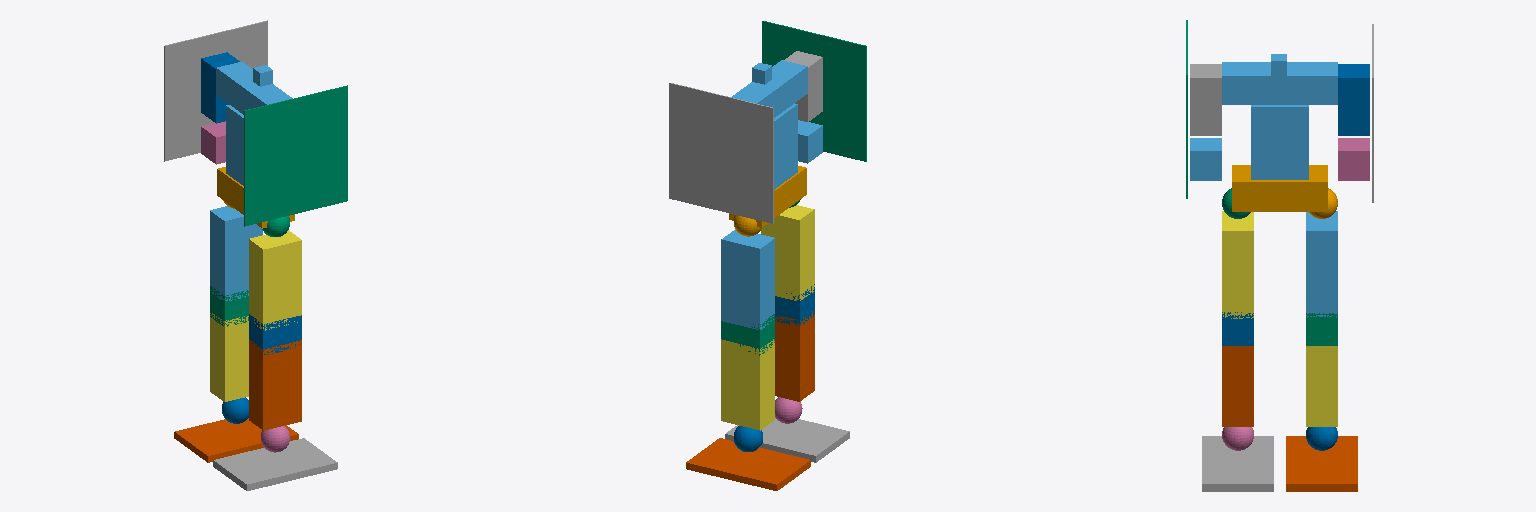
The robot description file, URDF, robot "Robot":
<?xml version="1.0" ?>
<robot name="Robot">
  <!--Generated by RobotCAD, a ROS Workbench for FreeCAD (https://github.com/drfenixion/freecad.robotcad)-->
  <link name="waist">
    <visual>
      <!--waist001/waist001.-->
      <origin rpy="0 0 0" xyz="0.0 0.0 0.382"/>
      <geometry>
        <box size="0.05 0.12 0.04"/>
      </geometry>
    </visual>
  </link>
  <link name="body">
    <visual>
      <!--body001/body001.-->
      <origin rpy="0 0 0" xyz="0.0 0.0 0.05"/>
      <geometry>
        <box size="0.05 0.073 0.1"/>
      </geometry>
    </visual>
    <visual>
      <!--body001/body_sholder001.-->
      <origin rpy="0 0 0" xyz="0.0 0.0 0.1205"/>
      <geometry>
        <box size="0.04 0.143 0.04"/>
      </geometry>
    </visual>
    <visual>
      <!--body001/Link002.-->
      <origin rpy="0 0 0" xyz="0.01 -0.0015 0.151"/>
      <geometry>
        <box size="0.02 0.02 0.02"/>
      </geometry>
    </visual>
  </link>
  <link name="r_hip">
    <visual>
      <!--right_hip001/right_hip001.-->
      <origin rpy="0 1.5707963267948963 0" xyz="0.0 0.0 0.0"/>
      <geometry>
        <sphere radius="0.02"/>
      </geometry>
    </visual>
  </link>
  <link name="r_thigh">
    <visual>
      <!--right_thigh001/right_thigh001.-->
      <origin rpy="-1.5707963267948957 0 -1.5707963267948963" xyz="-0.05 0.0 0.0"/>
      <geometry>
        <box size="0.06 0.04 0.12"/>
      </geometry>
    </visual>
  </link>
  <link name="r_knee">
    <visual>
      <!--right_knee001/right_knee001.-->
      <origin rpy="-1.5707963267948974 0 -1.5707963267948977" xyz="-0.0235 0.0 0.0"/>
      <geometry>
        <box size="0.06 0.04 0.047"/>
      </geometry>
    </visual>
  </link>
  <link name="r_shin">
    <visual>
      <!--right_shin001/right_shin001.-->
      <origin rpy="1.5707963267948963 0 1.5707963267948966" xyz="-0.05 0.0 0.0"/>
      <geometry>
        <box size="0.06 0.04 0.12"/>
      </geometry>
    </visual>
  </link>
  <link name="r_ankle">
    <visual>
      <!--right_ankle001/right_ankle001.-->
      <origin rpy="1.5707963267948966 0 1.5707963267948977" xyz="-0.035 0.0 0.0"/>
      <geometry>
        <sphere radius="0.02"/>
      </geometry>
    </visual>
  </link>
  <link name="r_sole">
    <visual>
      <!--right_sole001/right_sole001.-->
      <origin rpy="0 1.5707963267948963 0" xyz="-0.04 0.0 0.0"/>
      <geometry>
        <box size="0.14 0.09 0.01"/>
      </geometry>
    </visual>
  </link>
  <link name="l_hip">
    <visual>
      <!--left_hip001/left_hip001.-->
      <origin rpy="0 0 0" xyz="0.0 0.0 0.0"/>
      <geometry>
        <sphere radius="0.02"/>
      </geometry>
    </visual>
  </link>
  <link name="l_thigh">
    <visual>
      <!--left_thigh001/left_thigh001.-->
      <origin rpy="-1.570796326794897 0 -1.5707963267948966" xyz="-0.05 0.0 0.0"/>
      <geometry>
        <box size="0.06 0.04 0.12"/>
      </geometry>
    </visual>
  </link>
  <link name="l_knee">
    <visual>
      <!--left_knee001/left_knee001.-->
      <origin rpy="-1.570796326794897 0 -1.5707963267948966" xyz="-0.0235 0.0 0.0"/>
      <geometry>
        <box size="0.06 0.04 0.047"/>
      </geometry>
    </visual>
  </link>
  <link name="l_shin">
    <visual>
      <!--left_shin001/left_shin001.-->
      <origin rpy="-1.5707963267948977 0 -1.570796326794897" xyz="-0.05 0.0 0.0"/>
      <geometry>
        <box size="0.06 0.04 0.12"/>
      </geometry>
    </visual>
  </link>
  <link name="l_ankle">
    <visual>
      <!--left_ankle001/left_ankle001.-->
      <origin rpy="0 0 0" xyz="-0.035 0.0 0.0"/>
      <geometry>
        <sphere radius="0.02"/>
      </geometry>
    </visual>
  </link>
  <link name="l_sole">
    <visual>
      <!--left_sole001/left_sole001.-->
      <origin rpy="0 1.570796326794895 0" xyz="-0.04 0.0 0.0"/>
      <geometry>
        <box size="0.14 0.09 0.01"/>
      </geometry>
    </visual>
  </link>
  <link name="r_p_sholder"/>
  <link name="r_r_sholder">
    <visual>
      <!--right_arm001/right_arm001.-->
      <origin rpy="-1.5707963267948974 1.5707963267948961 0" xyz="0.0 -0.0225 0.0"/>
      <geometry>
        <box size="0.04 0.04 0.08"/>
      </geometry>
    </visual>
  </link>
  <link name="r_y_wrist"/>
  <link name="r_r_wrist">
    <visual>
      <!--right_wrist001/right_wrist001.-->
      <origin rpy="1.570796326794897 -1.5707963267948963 0" xyz="0.0 0.0 0.0"/>
      <geometry>
        <box size="0.04 0.04 0.04"/>
      </geometry>
    </visual>
  </link>
  <link name="r_hand">
    <visual>
      <!--right_hand001/right_hand001.-->
      <origin rpy="1.5707963267948968 0 -3.141592653589793" xyz="-0.065 -0.005 0.004"/>
      <geometry>
        <box size="0.17 0.002 0.16"/>
      </geometry>
    </visual>
  </link>
  <link name="l_p_sholder"/>
  <link name="l_r_sholder">
    <visual>
      <!--left_arm001/left_arm001.-->
      <origin rpy="-1.5707963267948966 -1.570796326794896 0" xyz="0.0 -0.0225 0.0"/>
      <geometry>
        <box size="0.04 0.04 0.08"/>
      </geometry>
    </visual>
  </link>
  <link name="l_y_wrist"/>
  <link name="l_r_wrist">
    <visual>
      <!--left_wrist001/left_wrist001.-->
      <origin rpy="1.570796326794897 1.5707963267948961 0" xyz="0.0 0.0 0.0"/>
      <geometry>
        <box size="0.04 0.04 0.04"/>
      </geometry>
    </visual>
  </link>
  <link name="l_hand">
    <visual>
      <!--left_hand001/left_hand001.-->
      <origin rpy="1.5707963267948974 0 -1.5707963267948966" xyz="0.005 -0.065 0.004"/>
      <geometry>
        <box size="0.17 0.002 0.16"/>
      </geometry>
    </visual>
  </link>
  <joint name="waist_joint" type="revolute">
    <parent link="waist"/>
    <child link="body"/>
    <origin rpy="0 0 0" xyz="0.0 0.0 0.4045"/>
    <axis xyz="0 0 1"/>
    <limit effort="0.0" lower="-1.5707963267948966" upper="1.5707963267948966" velocity="0.0"/>
  </joint>
  <joint name="r_hip_joint" type="revolute">
    <parent link="waist"/>
    <child link="r_hip"/>
    <origin rpy="0 -1.5707963267948963 0" xyz="0.0 -0.052 0.362"/>
    <axis xyz="0 0 1"/>
    <limit effort="0.0" lower="-1.5707963267948966" upper="1.5707963267948966" velocity="0.0"/>
  </joint>
  <joint name="r_thigh_top_joint" type="revolute">
    <parent link="r_hip"/>
    <child link="r_thigh"/>
    <origin rpy="1.5707963267948968 0 0" xyz="-0.035 0.0 0.0"/>
    <axis xyz="0 0 1"/>
    <limit effort="0.0" lower="-1.5707963267948966" upper="1.5707963267948966" velocity="0.0"/>
  </joint>
  <joint name="r_thigh_bottom_joint" type="revolute">
    <parent link="r_thigh"/>
    <child link="r_knee"/>
    <origin rpy="0 0 0" xyz="-0.1 0.0 0.0"/>
    <axis xyz="0 0 1"/>
    <limit effort="0.0" lower="-1.5707963267948966" upper="1.5707963267948966" velocity="0.0"/>
    <mimic joint="r_thigh_top_joint" multiplier="-1.0" offset="0.0"/>
  </joint>
  <joint name="r_shin_top_joint" type="revolute">
    <parent link="r_knee"/>
    <child link="r_shin"/>
    <origin rpy="3.141592653589793 0 0" xyz="-0.047 0.0 0.0"/>
    <axis xyz="0 0 1"/>
    <limit effort="0.0" lower="-1.5707963267948966" upper="1.5707963267948966" velocity="0.0"/>
  </joint>
  <joint name="r_shin_bottom_joint" type="revolute">
    <parent link="r_shin"/>
    <child link="r_ankle"/>
    <origin rpy="0 0 0" xyz="-0.1 0.0 0.0"/>
    <axis xyz="0 0 1"/>
    <limit effort="0.0" lower="-1.5707963267948966" upper="1.5707963267948966" velocity="0.0"/>
    <mimic joint="r_shin_top_joint" multiplier="-1.0" offset="0.0"/>
  </joint>
  <joint name="r_ankle_joint" type="revolute">
    <parent link="r_ankle"/>
    <child link="r_sole"/>
    <origin rpy="-1.5707963267948968 0 0" xyz="-0.035 0.0 0.0"/>
    <axis xyz="0 0 1"/>
    <limit effort="0.0" lower="-1.5707963267948966" upper="1.5707963267948966" velocity="0.0"/>
  </joint>
  <joint name="l_hip_joint" type="revolute">
    <parent link="waist"/>
    <child link="l_hip"/>
    <origin rpy="3.141592653589793 -1.5707963267948963 0" xyz="0.0 0.052 0.362"/>
    <axis xyz="0 0 1"/>
    <limit effort="0.0" lower="-1.5707963267948966" upper="1.5707963267948966" velocity="0.0"/>
  </joint>
  <joint name="l_thigh_top_joint" type="revolute">
    <parent link="l_hip"/>
    <child link="l_thigh"/>
    <origin rpy="-1.5707963267948968 0 0" xyz="-0.035 0.0 0.0"/>
    <axis xyz="0 0 1"/>
    <limit effort="0.0" lower="-1.5707963267948966" upper="1.5707963267948966" velocity="0.0"/>
  </joint>
  <joint name="l_thigh_bottom_joint" type="revolute">
    <parent link="l_thigh"/>
    <child link="l_knee"/>
    <origin rpy="0 0 0" xyz="-0.1 0.0 0.0"/>
    <axis xyz="0 0 1"/>
    <limit effort="0.0" lower="-1.5707963267948966" upper="1.5707963267948966" velocity="0.0"/>
    <mimic joint="l_thigh_top_joint" multiplier="-1.0" offset="0.0"/>
  </joint>
  <joint name="l_shin_top_joint" type="revolute">
    <parent link="l_knee"/>
    <child link="l_shin"/>
    <origin rpy="0 0 0" xyz="-0.047 0.0 0.0"/>
    <axis xyz="0 0 1"/>
    <limit effort="0.0" lower="-1.5707963267948966" upper="1.5707963267948966" velocity="0.0"/>
  </joint>
  <joint name="l_shin_bottom_joint" type="revolute">
    <parent link="l_shin"/>
    <child link="l_ankle"/>
    <origin rpy="0 0 0" xyz="-0.1 0.0 0.0"/>
    <axis xyz="0 0 1"/>
    <limit effort="0.0" lower="-1.5707963267948966" upper="1.5707963267948966" velocity="0.0"/>
    <mimic joint="l_shin_top_joint" multiplier="-1.0" offset="0.0"/>
  </joint>
  <joint name="l_ankle_joint" type="revolute">
    <parent link="l_ankle"/>
    <child link="l_sole"/>
    <origin rpy="-1.5707963267948968 0 0" xyz="-0.035 0.0 0.0"/>
    <axis xyz="0 0 1"/>
    <limit effort="0.0" lower="-1.5707963267948966" upper="1.5707963267948966" velocity="0.0"/>
  </joint>
  <joint name="r_p_sholder_joint" type="revolute">
    <parent link="body"/>
    <child link="r_p_sholder"/>
    <origin rpy="1.5707963267948968 0 0" xyz="0.0 -0.0715 0.1205"/>
    <axis xyz="0 0 1"/>
    <limit effort="0.0" lower="-1.5707963267948966" upper="1.5707963267948966" velocity="0.0"/>
  </joint>
  <joint name="r_r_sholder_joint" type="revolute">
    <parent link="r_p_sholder"/>
    <child link="r_r_sholder"/>
    <origin rpy="0 -1.5707963267948963 0" xyz="0.0 0.0 0.02"/>
    <axis xyz="0 0 1"/>
    <limit effort="0.0" lower="-1.5707963267948966" upper="1.5707963267948966" velocity="0.0"/>
  </joint>
  <joint name="r_y_wrist_joint" type="revolute">
    <parent link="r_r_sholder"/>
    <child link="r_y_wrist"/>
    <origin rpy="-1.5707963267948968 0 0" xyz="0.0 -0.07 0.0"/>
    <axis xyz="0 0 1"/>
    <limit effort="0.0" lower="-1.5707963267948966" upper="1.5707963267948966" velocity="0.0"/>
  </joint>
  <joint name="r_r_wrist_joint" type="revolute">
    <parent link="r_y_wrist"/>
    <child link="r_r_wrist"/>
    <origin rpy="-1.5707963267948968 0 0" xyz="0.0 0.0 -0.033"/>
    <axis xyz="0 0 1"/>
    <limit effort="0.0" lower="0.0" upper="3.141592653589793" velocity="0.0"/>
  </joint>
  <joint name="r_hand_joint" type="revolute">
    <parent link="r_r_wrist"/>
    <child link="r_hand"/>
    <origin rpy="1.5707963267948966 0 1.5707963267948966" xyz="0.02 0.0 0.0"/>
    <axis xyz="0 0 1"/>
    <limit effort="0.0" lower="-1.5707963267948966" upper="1.5707963267948966" velocity="0.0"/>
  </joint>
  <joint name="l_p_sholder_joint" type="revolute">
    <parent link="body"/>
    <child link="l_p_sholder"/>
    <origin rpy="1.5707963267948968 0 0" xyz="0.0 0.0715 0.1205"/>
    <axis xyz="0 0 1"/>
    <limit effort="0.0" lower="-1.5707963267948966" upper="1.5707963267948966" velocity="0.0"/>
  </joint>
  <joint name="l_r_sholder_joint" type="revolute">
    <parent link="l_p_sholder"/>
    <child link="l_r_sholder"/>
    <origin rpy="0 1.5707963267948963 0" xyz="0.0 0.0 -0.02"/>
    <axis xyz="0 0 1"/>
    <limit effort="0.0" lower="-1.5707963267948966" upper="1.5707963267948966" velocity="0.0"/>
  </joint>
  <joint name="l_y_wrist_joint" type="revolute">
    <parent link="l_r_sholder"/>
    <child link="l_y_wrist"/>
    <origin rpy="1.5707963267948968 0 0" xyz="0.0 -0.07 0.0"/>
    <axis xyz="0 0 1"/>
    <limit effort="0.0" lower="-1.5707963267948966" upper="1.5707963267948966" velocity="0.0"/>
  </joint>
  <joint name="l_r_wrist_joint" type="revolute">
    <parent link="l_y_wrist"/>
    <child link="l_r_wrist"/>
    <origin rpy="1.5707963267948968 0 0" xyz="0.0 0.0 0.033"/>
    <axis xyz="0 0 1"/>
    <limit effort="0.0" lower="0.0" upper="3.141592653589793" velocity="0.0"/>
  </joint>
  <joint name="l_hand_joint" type="revolute">
    <parent link="l_r_wrist"/>
    <child link="l_hand"/>
    <origin rpy="0 1.5707963267948963 0" xyz="0.02 0.0 0.0"/>
    <axis xyz="0 0 1"/>
    <limit effort="0.0" lower="-1.5707963267948966" upper="1.5707963267948966" velocity="0.0"/>
  </joint>
</robot>

--- Render facts (derived) ---
3 views of the same robot in one strip: view 1: azimuth 30°, elevation 25°; view 2: azimuth 150°, elevation 25°; view 3: azimuth 270°, elevation 25° (orthographic).
Robot: Robot — 24 links, 23 joints (23 revolute); root link waist; default pose: every joint at zero.
Links seen in each view (by area): view 1: r_hand, l_hand, r_thigh, r_shin, body, r_sole, l_thigh, l_shin, l_sole, l_r_sholder, r_knee, l_knee (+4 smaller); view 2: l_hand, r_hand, l_thigh, l_shin, body, l_sole, r_thigh, r_shin, r_sole, r_r_sholder, l_knee, waist (+4 smaller); view 3: body, r_sole, l_sole, waist, r_thigh, l_thigh, r_shin, l_shin, r_r_sholder, l_r_sholder, r_r_wrist, l_r_wrist (+4 smaller).
Boxes of the visible links, box(x1,y1,x2,y2) form: r_hand: box(244, 85, 347, 226); l_hand: box(164, 20, 267, 161); r_thigh: box(249, 230, 301, 330); r_shin: box(249, 339, 301, 430); body: box(216, 62, 292, 185); r_sole: box(213, 438, 337, 490); l_thigh: box(210, 206, 262, 300); l_shin: box(210, 313, 248, 401); l_sole: box(174, 418, 298, 462); l_r_sholder: box(201, 52, 239, 123); r_knee: box(249, 314, 301, 354); l_knee: box(210, 286, 248, 326); l_hand: box(669, 83, 773, 223); r_hand: box(762, 21, 866, 161); l_thigh: box(721, 229, 774, 329); l_shin: box(721, 339, 774, 430); body: box(732, 60, 807, 189); l_sole: box(686, 438, 810, 490); r_thigh: box(761, 205, 814, 300); r_shin: box(775, 311, 814, 401); r_sole: box(725, 418, 849, 462); r_r_sholder: box(784, 51, 822, 121); l_knee: box(721, 314, 774, 355); waist: box(729, 166, 806, 227); body: box(1222, 54, 1337, 179); r_sole: box(1202, 436, 1273, 491); l_sole: box(1286, 436, 1357, 491); waist: box(1232, 165, 1327, 211); r_thigh: box(1222, 211, 1253, 318); l_thigh: box(1306, 211, 1337, 317); r_shin: box(1222, 346, 1253, 426); l_shin: box(1306, 346, 1337, 426); r_r_sholder: box(1190, 64, 1221, 135); l_r_sholder: box(1338, 64, 1369, 135); r_r_wrist: box(1190, 138, 1221, 180); l_r_wrist: box(1338, 138, 1369, 180).
Bounding box of the posed robot: 0.17 × 0.233 × 0.572 m (x, y, z).
Geometry: primitives only (box / cylinder / sphere), no mesh files.
